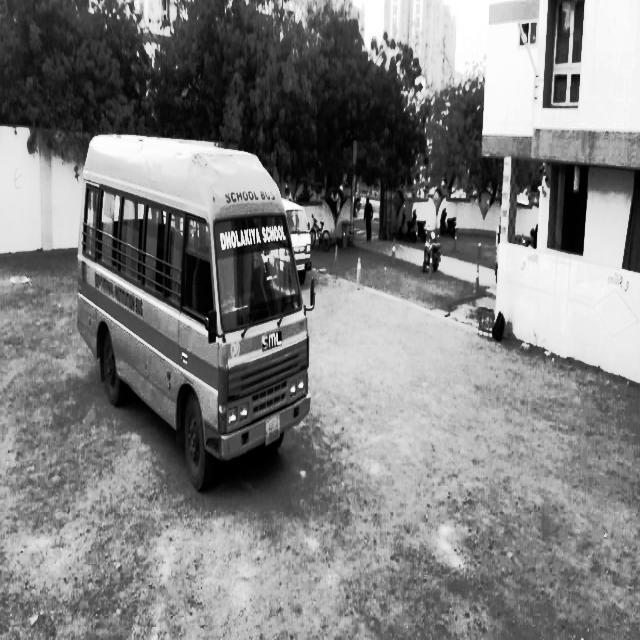Bus: (69, 116, 323, 504)
